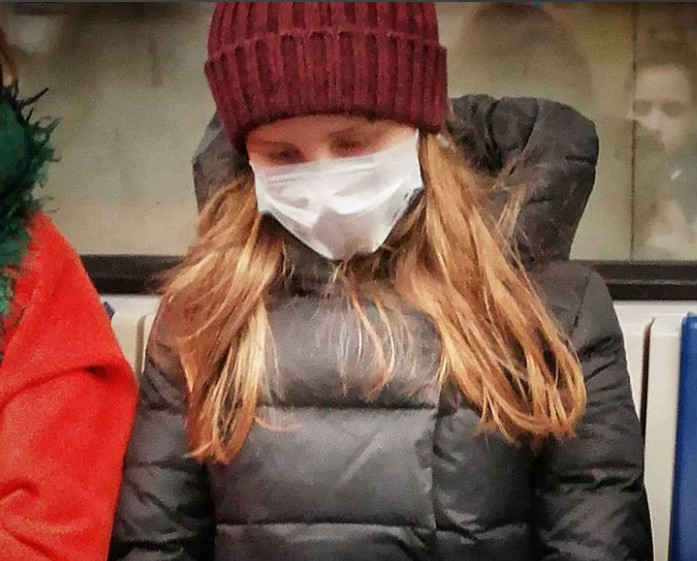face_with_mask: (210, 5, 448, 266)
